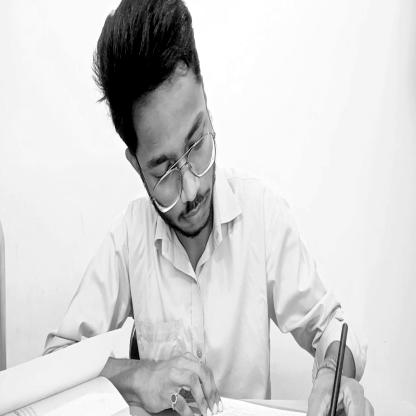Distracted: (97, 7, 219, 244)
